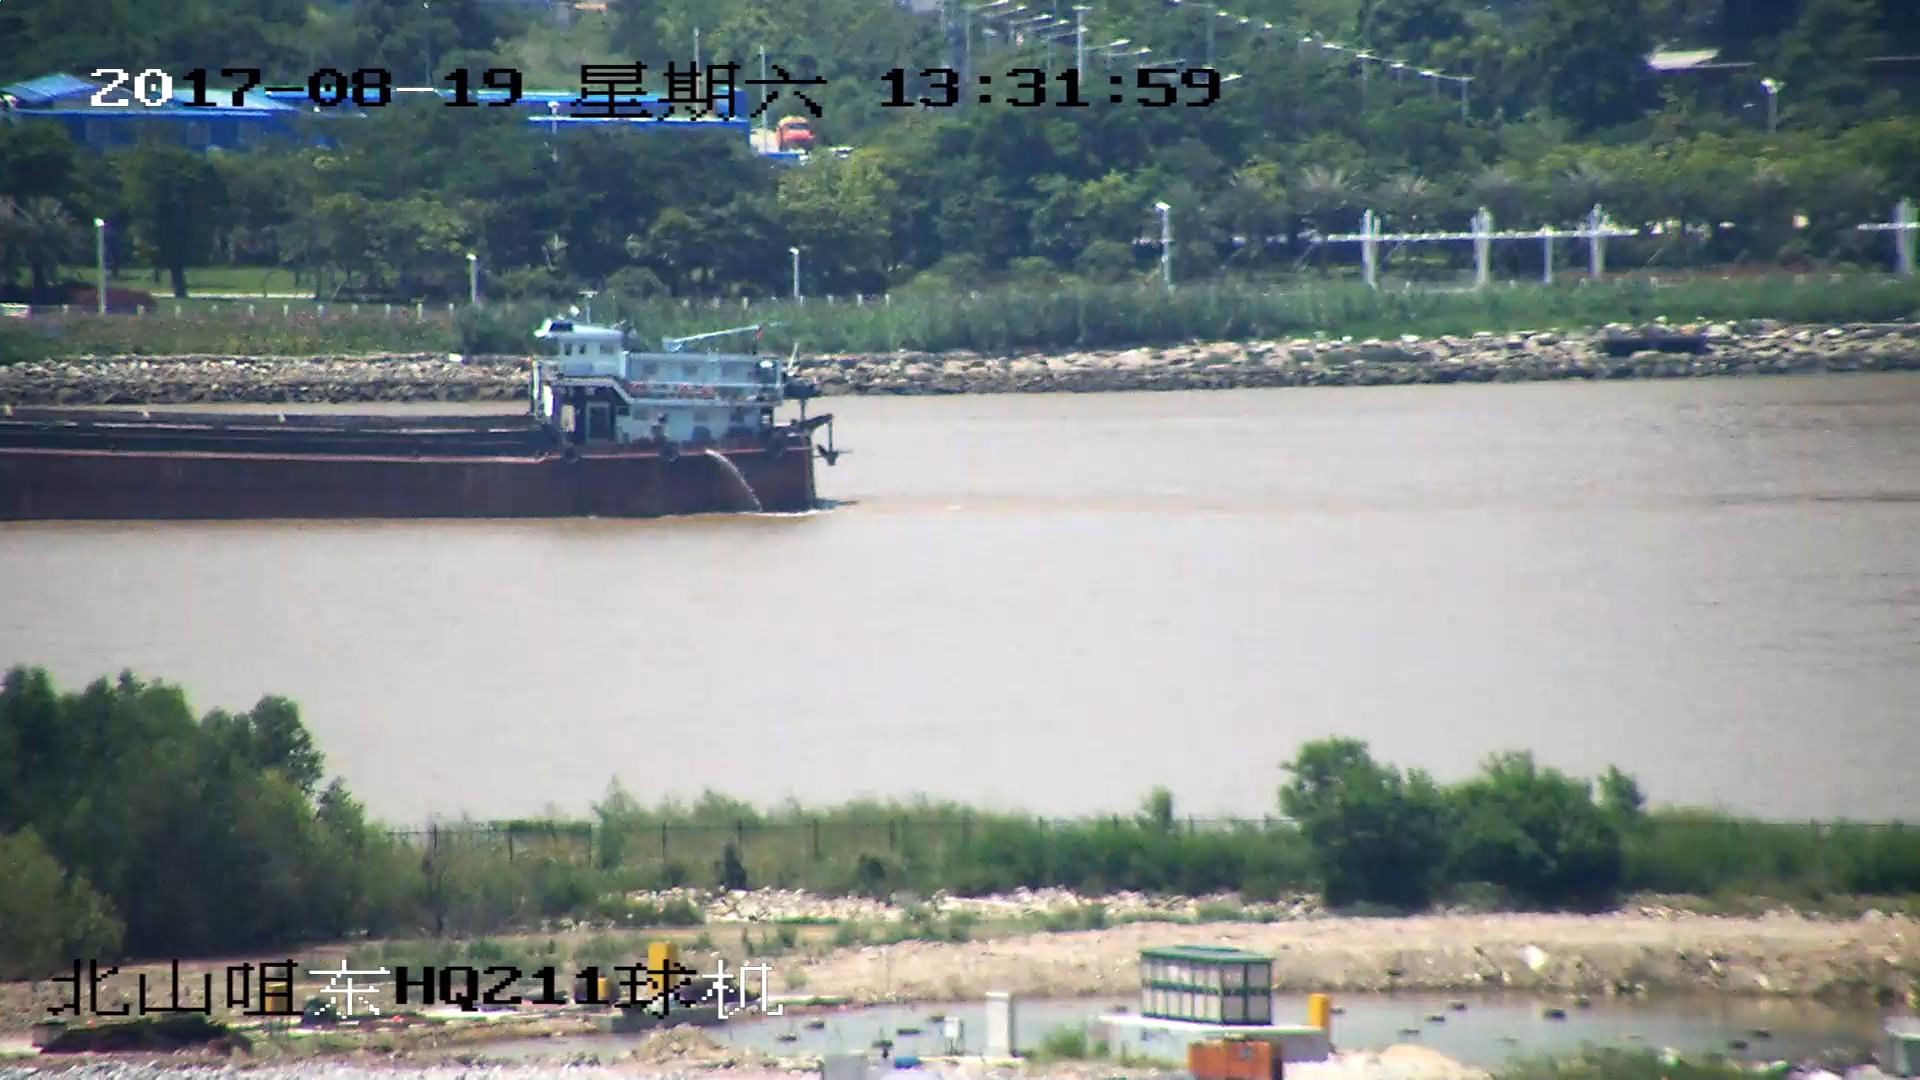bulk cargo carrier: (1, 297, 840, 520)
